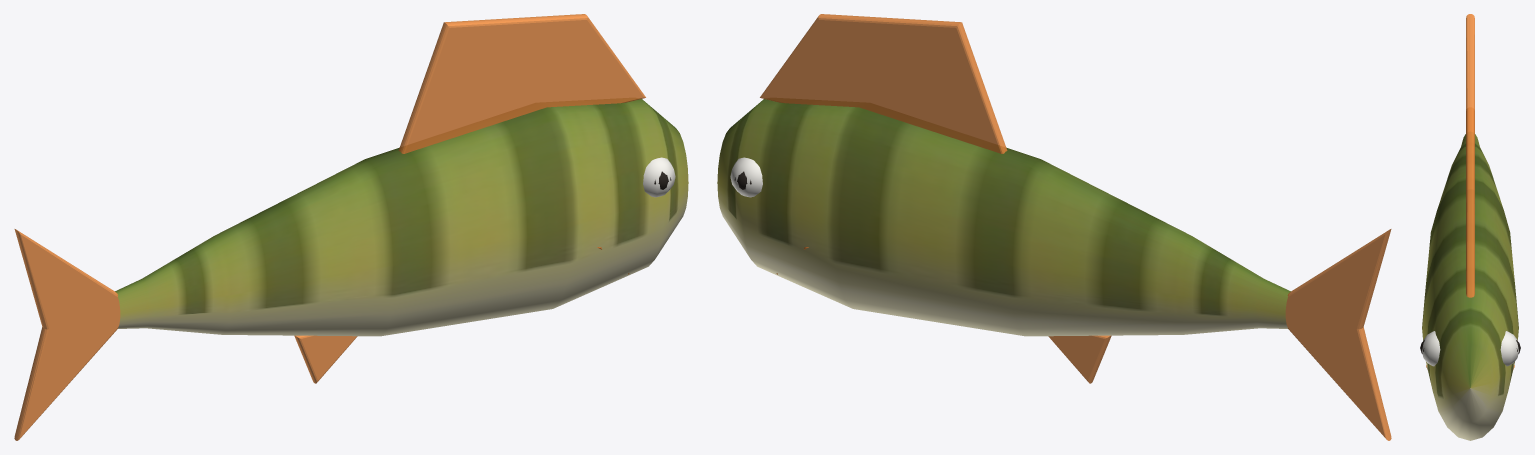
Rendered from perch.glb.
The picture shows the model from 3 angles, left to right: view 1: azimuth 30°, elevation 25°; view 2: azimuth 150°, elevation 25°; view 3: azimuth 270°, elevation 25°; orthographic projection. The views are drawn at different scales.
Parts seen in each view (by area): view 1: fish; view 2: fish; view 3: fish.
Boxes of the visible parts, x1,y1,x2,y2 form: fish: (14, 14, 688, 440); fish: (717, 14, 1391, 440); fish: (1420, 14, 1520, 440).
Size of the model in its own units: 0.3053 by 0.1426 by 0.046.
Materials: 4 (1 with a texture image).
